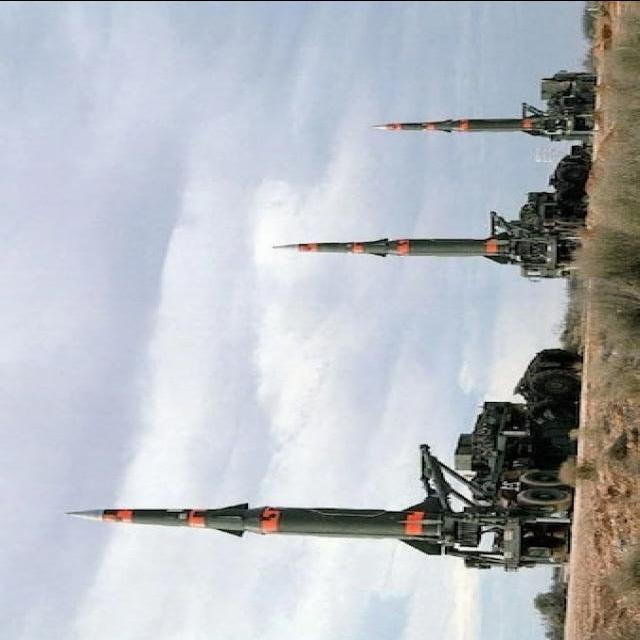Missile: (60, 502, 439, 541), (270, 233, 501, 261), (375, 118, 530, 138)
